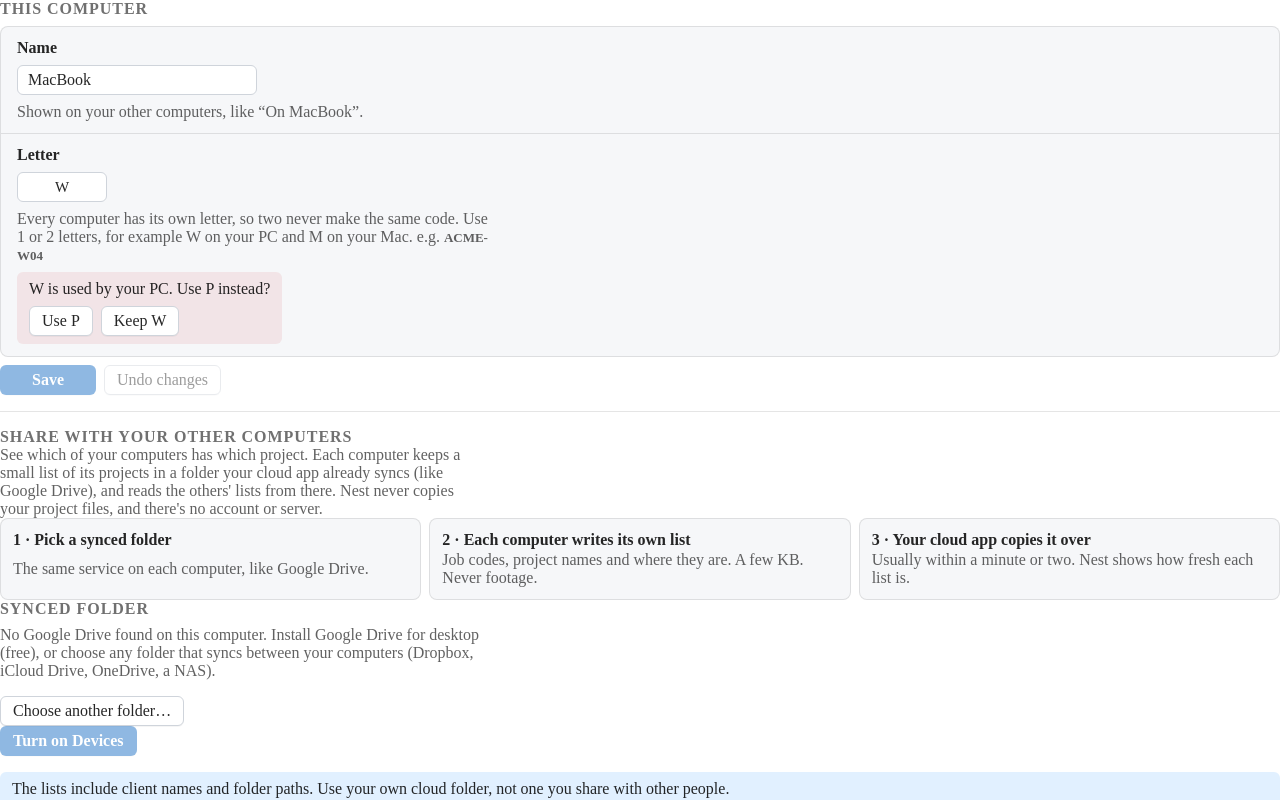
Settings → Computers: this computer › a taken letter offers a free one as one button, and saves only the letter
Expected: the text "W is used by your PC. Use P instead?" is shown, [29,280,270,298]
Click the button "Use P". click: {"x": 61, "y": 321}
box: [29,306,93,336]
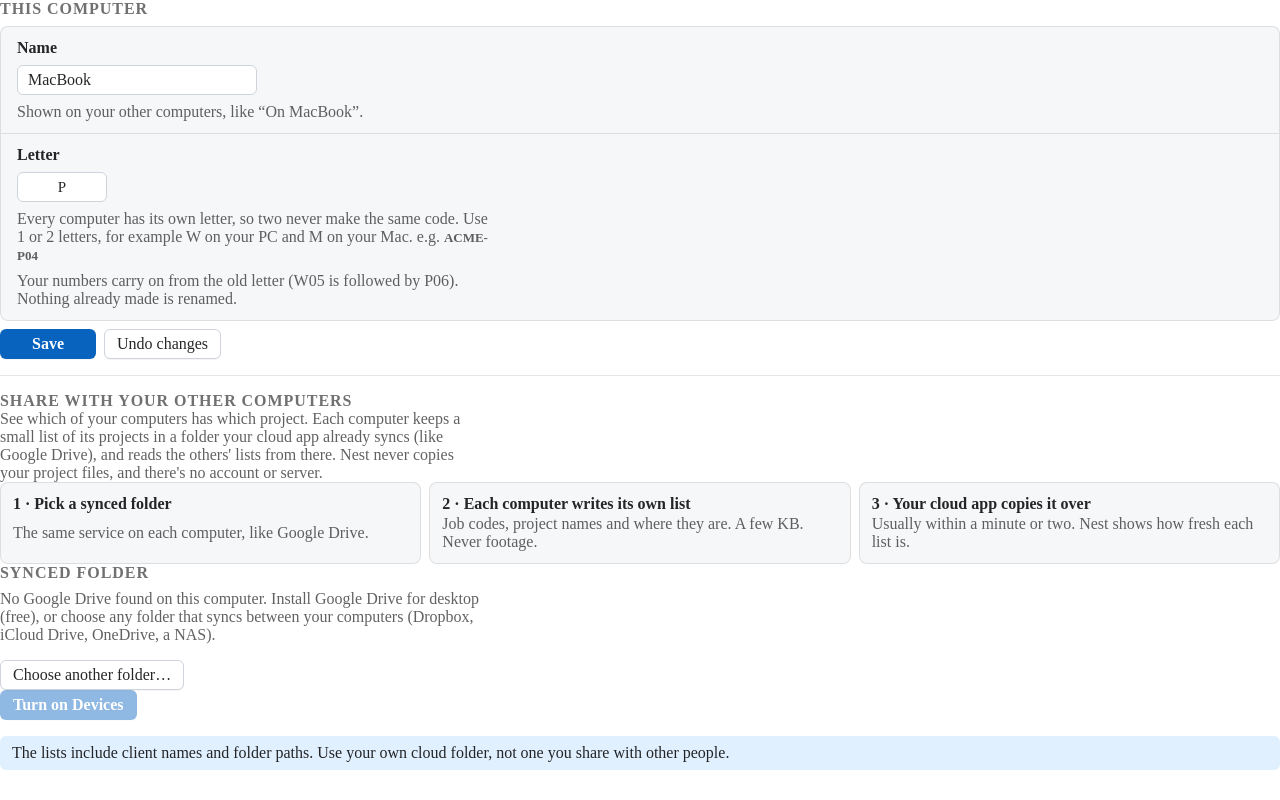
Expected: the field labelled "Letter" holds "P", [17,172,107,202]
